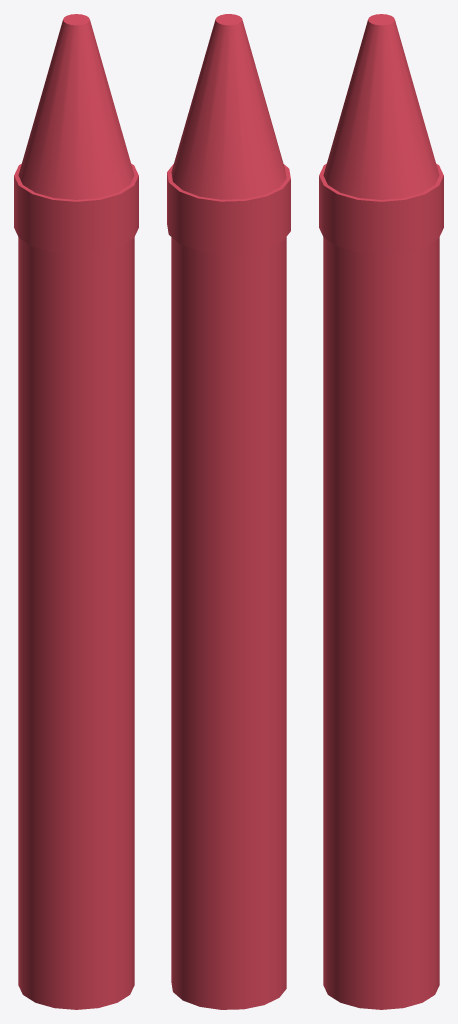
The model's file is crayon.fbx.
3 renders of one model, left to right at view 1: azimuth 90°, elevation 25°; view 2: azimuth 150°, elevation 25°; view 3: azimuth 270°, elevation 25°, orthographic.
Parts seen in each view (by area): view 1: Cylinder.001; view 2: Cylinder.001; view 3: Cylinder.001.
Boxes of the visible parts, x1,y1,x2,y2 form: Cylinder.001: (14,14,138,1009); Cylinder.001: (167,14,290,1009); Cylinder.001: (319,14,443,1009).
Size of the model in its own units: 0.0814 by 0.0814 by 0.6944.
